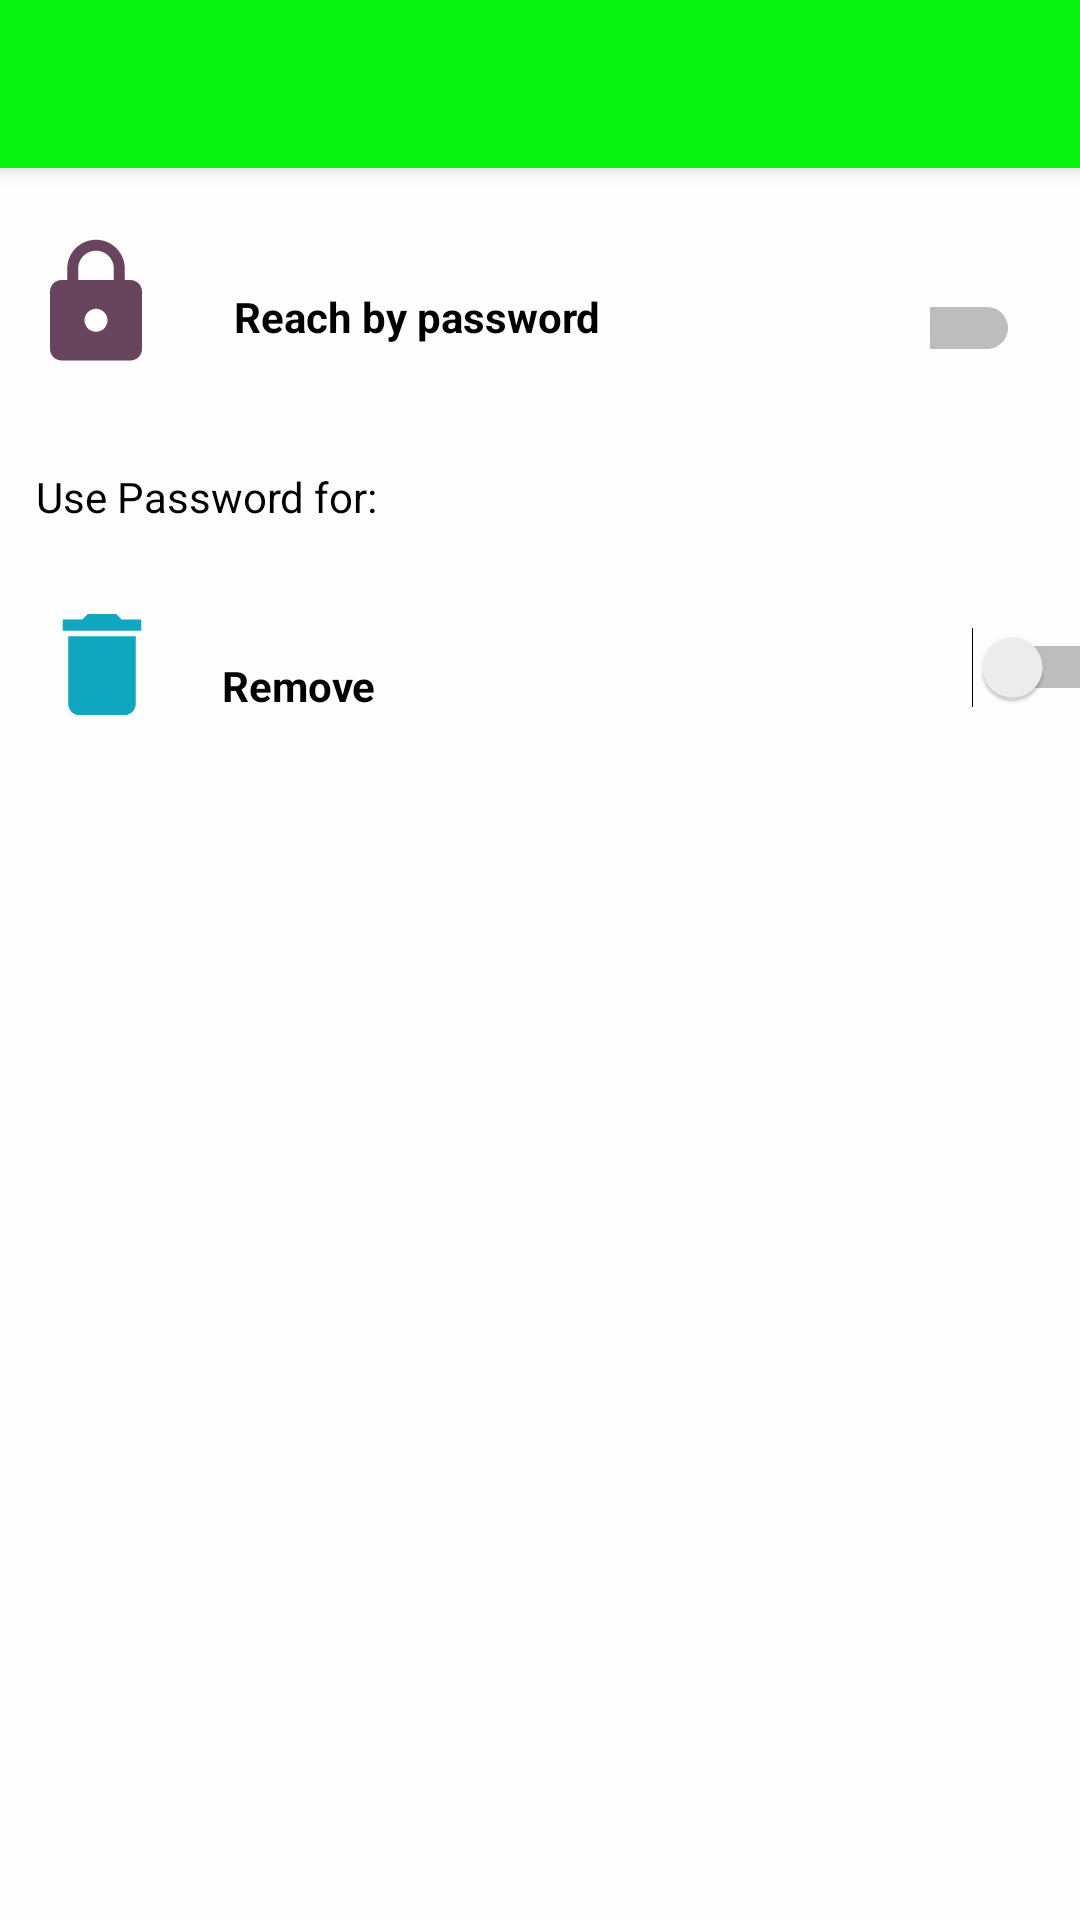

Screen size 1080w x 1920h. Icon name, then its box in pixels as bbox=(x1, y1, x2, y2):
delete: bbox=(62, 614, 142, 715)
lock: bbox=(50, 239, 142, 361)
